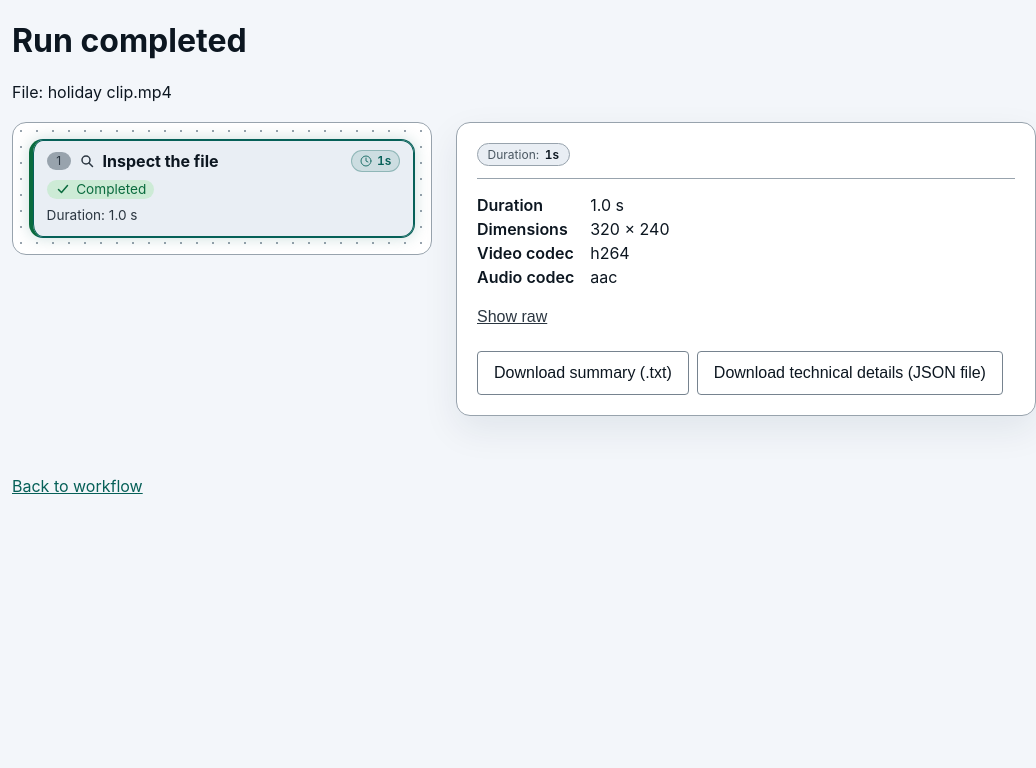
Test: RunProgressPage › reveals the full JSON, container included, under "Show raw"
Click the button "Show raw": (512, 317) [477, 295, 547, 339]
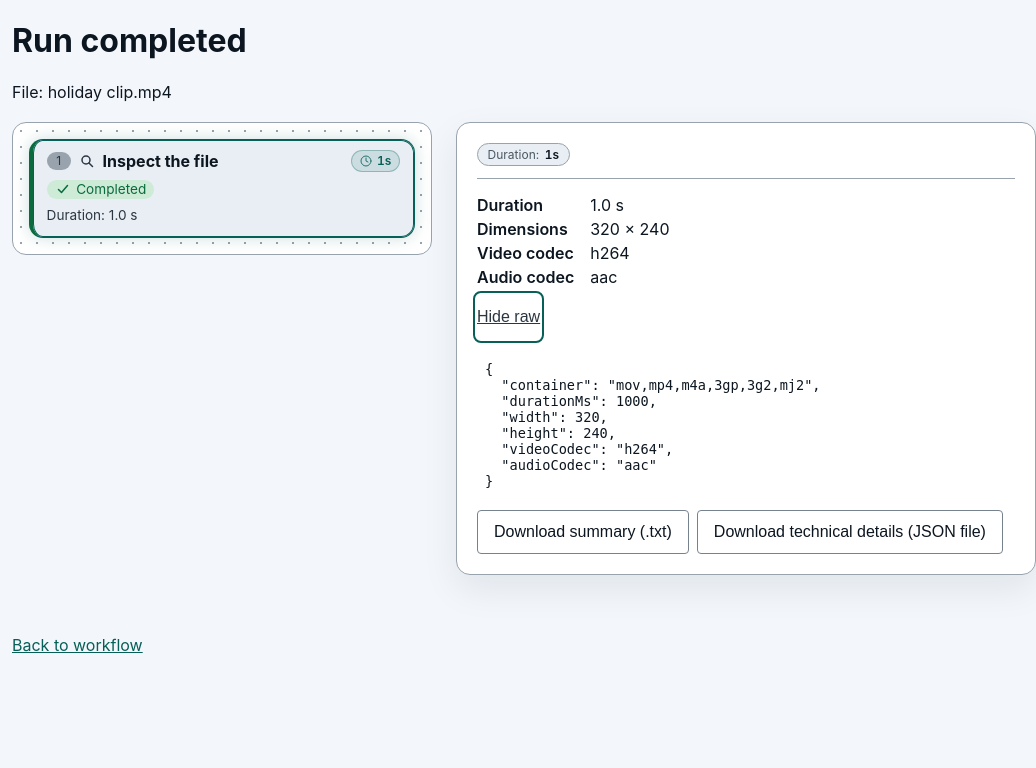
Check: the element that starts with "Run completed" shows "\"container\": \"mov,mp4,m4a,3gp,3g2,mj2\"", box [485, 361, 821, 489]
